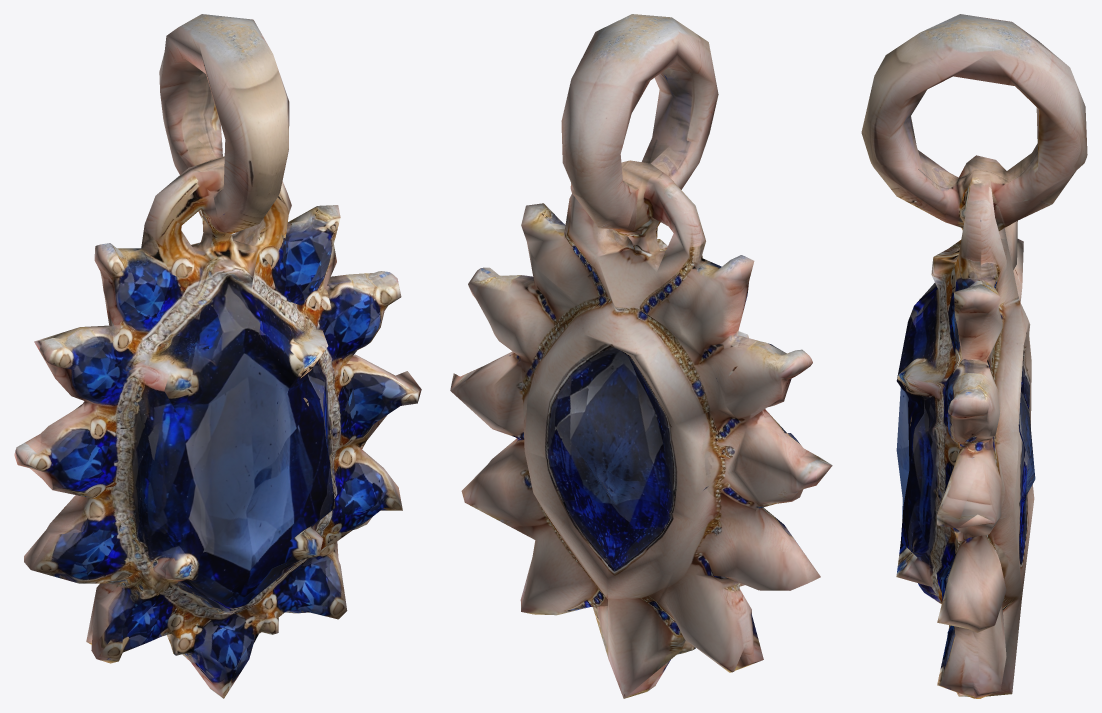
The model's file is earring.glb.
The picture shows the model from 3 angles, left to right: view 1: azimuth 30°, elevation 25°; view 2: azimuth 150°, elevation 25°; view 3: azimuth 270°, elevation 25°; orthographic projection.
Visible parts, largest first — view 1: Object_4; view 2: Object_4; view 3: Object_4.
Part boxes in pixels (x1,y1,x2,y2): Object_4: (14, 14, 421, 698); Object_4: (450, 14, 832, 698); Object_4: (861, 14, 1087, 698).
Bounding box in the file's own units: 0.722 × 1.2 × 0.3631.
1 material, 1 textured.
